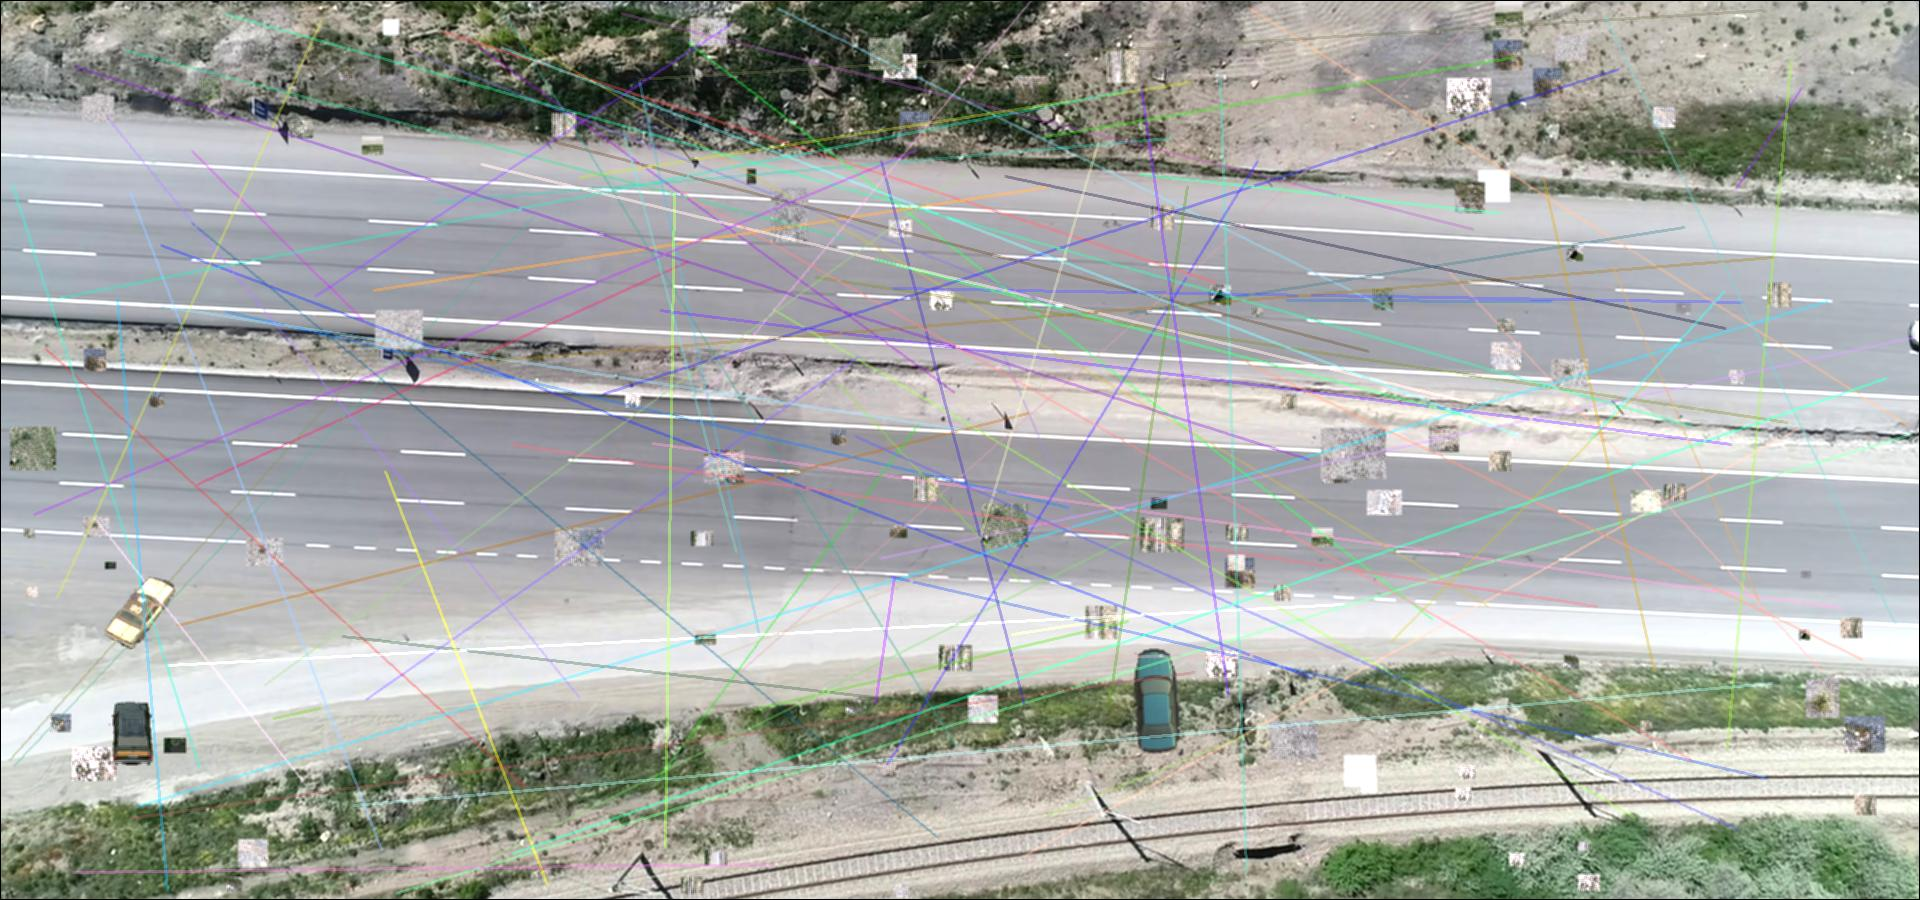arac: (1131, 648, 1183, 756), (105, 576, 175, 650), (109, 702, 154, 765)
